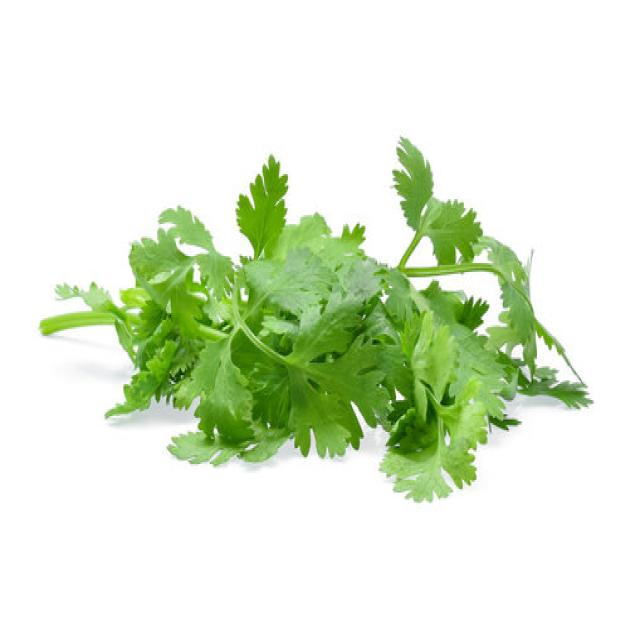Carrot: (38, 308, 119, 336)
Coriander Leaves: (38, 135, 592, 503)
